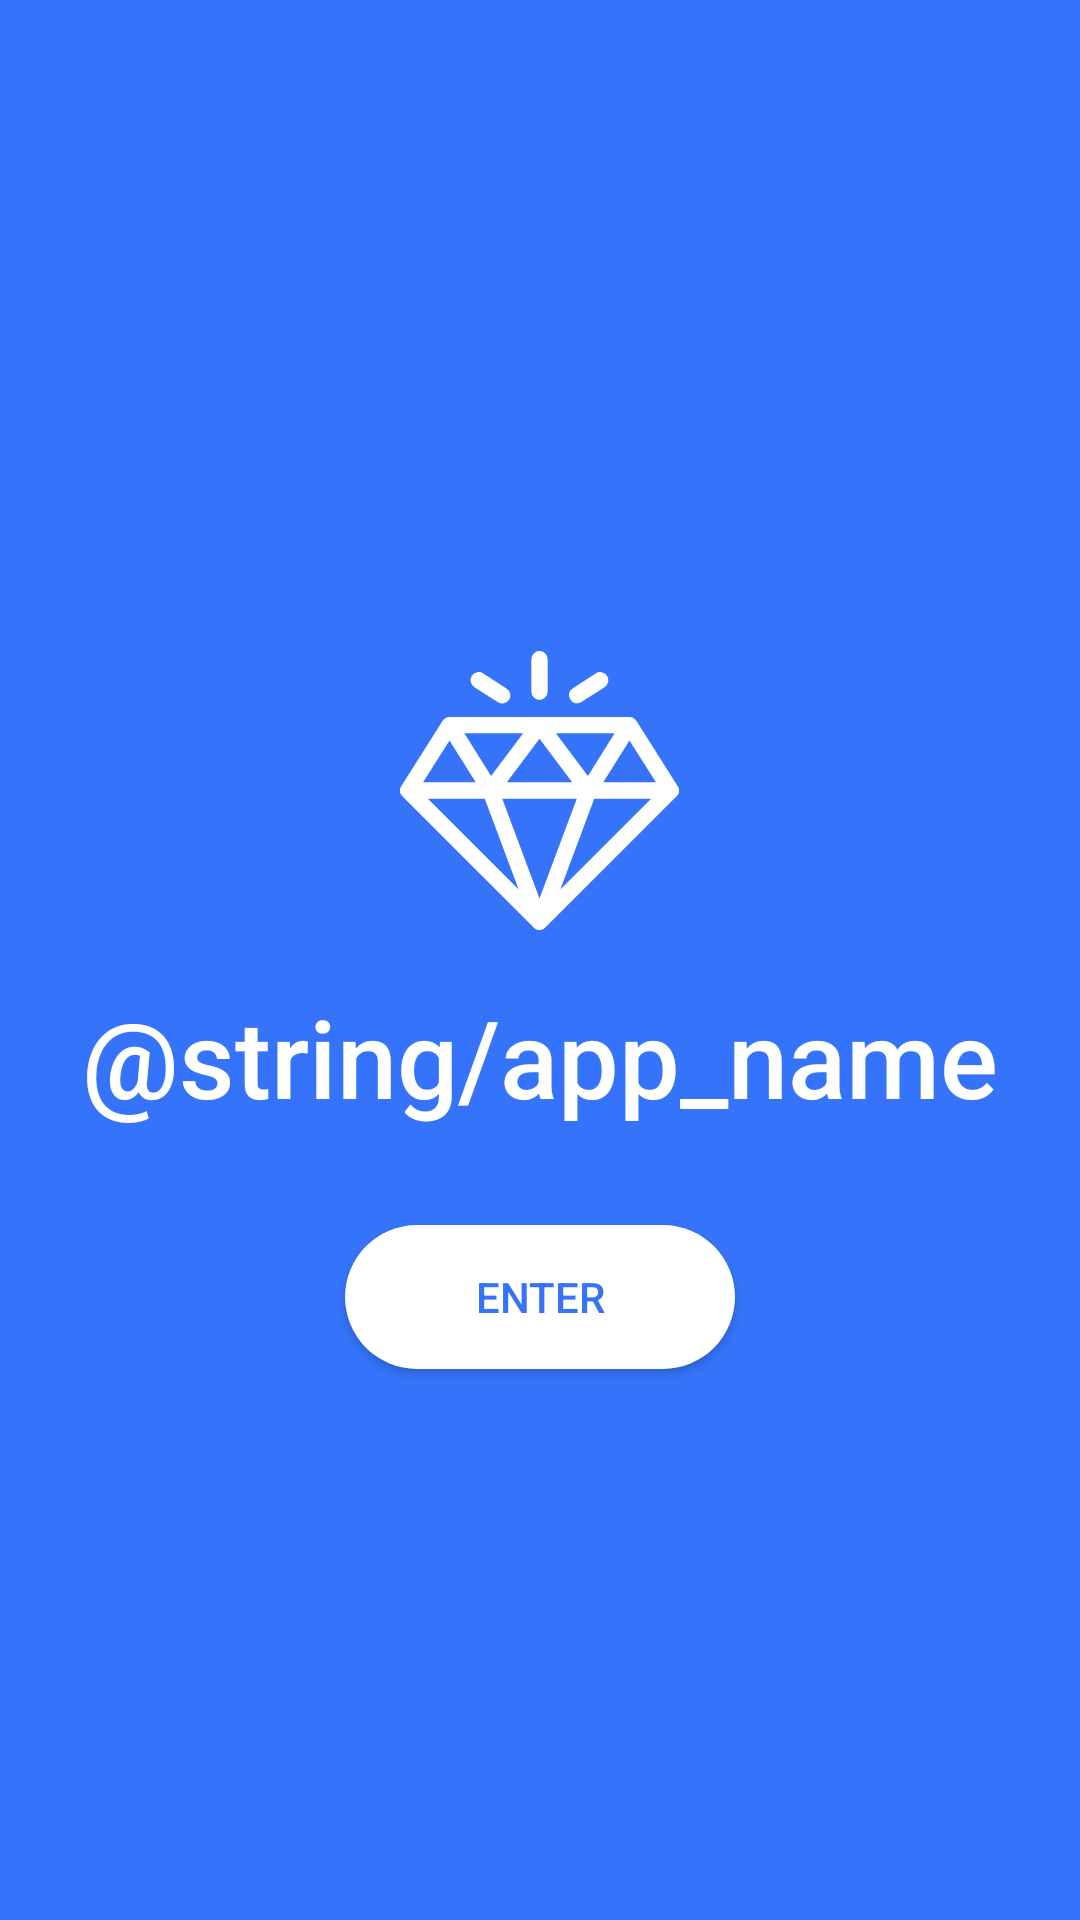

Screen size 1080 x 1920. Icon name, then its center in pixels as [x,y]:
diamond: [539,790]
